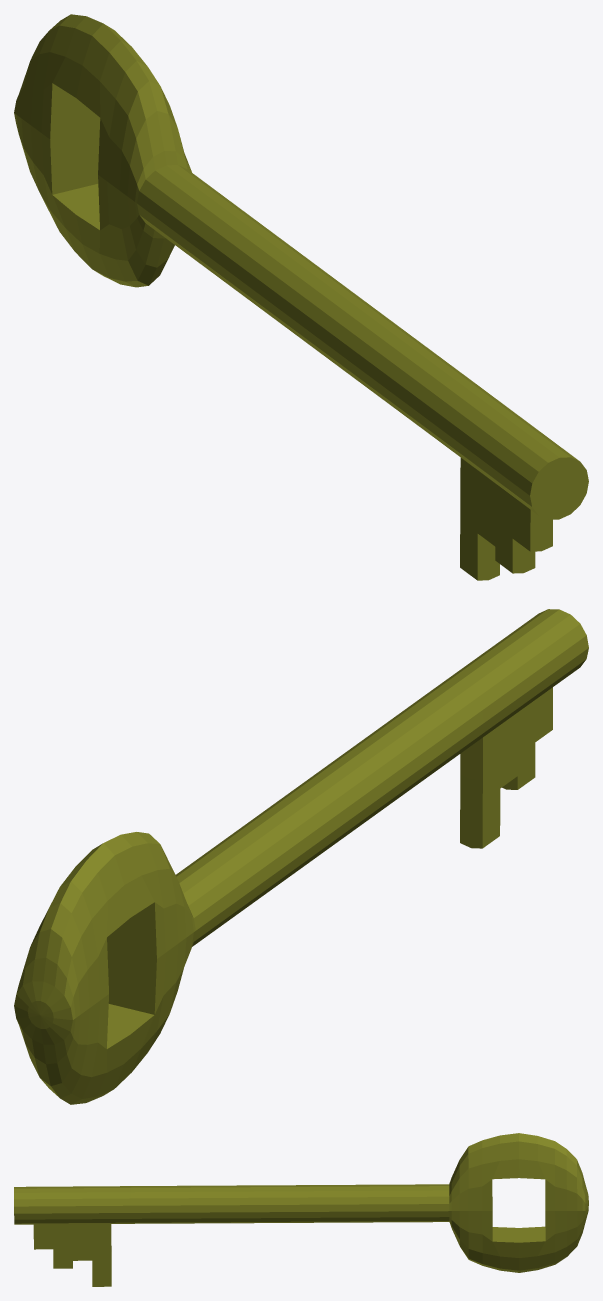
Rendered from key.fbx.
3 views of the same model, one above another, from view 1: azimuth 30°, elevation 25°; view 2: azimuth 150°, elevation 25°; view 3: azimuth 270°, elevation 25° (orthographic). The views are drawn at different scales.
Visible parts, largest first — view 1: Key; view 2: Key; view 3: Key.
Boxes of the visible parts, bbox=[...] form: Key: bbox=[14, 14, 588, 580]; Key: bbox=[14, 609, 588, 1104]; Key: bbox=[14, 1133, 588, 1286].
Bounding box in the file's own units: 200 × 890 × 3050.
